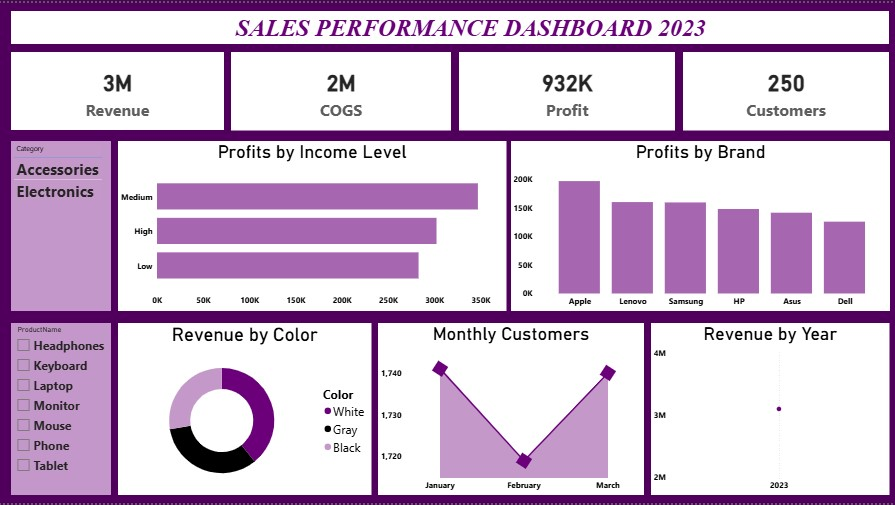

The dashboard page shown, as its layout file describes it:
{"tool":"powerbi","page":{"name":"Page 1","canvas":[1800,1000],"ordinal":0},"visuals":[{"type":"lineChart","title":" Yearly Revenue","fields":{"Category":["Sales.SaleDate.Variation.Date Hierarchy.Year"],"Y":["Sum(Sales.Revenue)"]},"box":[1307,639.8,476.7,344.2],"z":1000},{"type":"clusteredBarChart","title":" Income Level by Profit","fields":{"Category":["Customers.IncomeLevel"],"Y":["Sum(Sales.Profits)"]},"box":[239.5,276.7,776.7,339.5],"z":2000},{"type":"slicer","fields":{"Values":["Products.ProductName"]},"box":[26,640,200,344],"z":3000},{"type":"clusteredColumnChart","title":"Brand by Profit","fields":{"Y":["Sum(Sales.Profits)"],"Category":["Products.Brand"]},"box":[1026,276,758,340],"z":4000},{"type":"tableEx","fields":{"Values":["Products.Category"]},"box":[26,276,200,340],"z":5000},{"type":"card","fields":{"Values":["Sum(Sales.Revenue)"]},"box":[26,98,426,156],"z":6000},{"type":"card","fields":{"Values":["Sum(Sales.Profits)"]},"box":[922.3,98,432.4,156.9],"z":7000},{"type":"card","fields":{"Values":["Sales.Total customers"]},"box":[1369.6,98,412.3,156.9],"z":8000},{"type":"card","fields":{"Values":["Sum(Sales.COGS)"]},"box":[466.9,98,440.4,156.9],"z":9000},{"type":"textbox","box":[26.1,16.1,1755.8,66.4],"z":10000},{"type":"lineChart","title":" Monthly Customers","fields":{"Y":["CountNonNull(Sales.CustomerID)"],"Category":["Sales.SaleDate.Variation.Date Hierarchy.Month"]},"box":[760.5,640,532,344],"z":11000},{"type":"donutChart","title":" Color by Total Purchase","fields":{"Category":["Products.Color"],"Y":["Sum(Sales.Revenue)"]},"box":[240,640,506,344],"z":11001}]}

Visuals, with their boxes in screenshot pixels (x1, y1, x2, y2), scaled from the page's 1800x1000 canvas onto the 895x505 screenshot:
" Yearly Revenue" lineChart: select_region(650, 323, 887, 497)
" Income Level by Profit" clusteredBarChart: select_region(119, 140, 505, 311)
slicer - Products.ProductName: select_region(13, 323, 112, 497)
"Brand by Profit" clusteredColumnChart: select_region(510, 139, 887, 311)
tableEx - Products.Category: select_region(13, 139, 112, 311)
card - Sum(Sales.Revenue): select_region(13, 49, 225, 128)
card - Sum(Sales.Profits): select_region(459, 49, 674, 129)
card - Sales.Total customers: select_region(681, 49, 886, 129)
card - Sum(Sales.COGS): select_region(232, 49, 451, 129)
textbox: select_region(13, 8, 886, 42)
" Monthly Customers" lineChart: select_region(378, 323, 643, 497)
" Color by Total Purchase" donutChart: select_region(119, 323, 371, 497)
